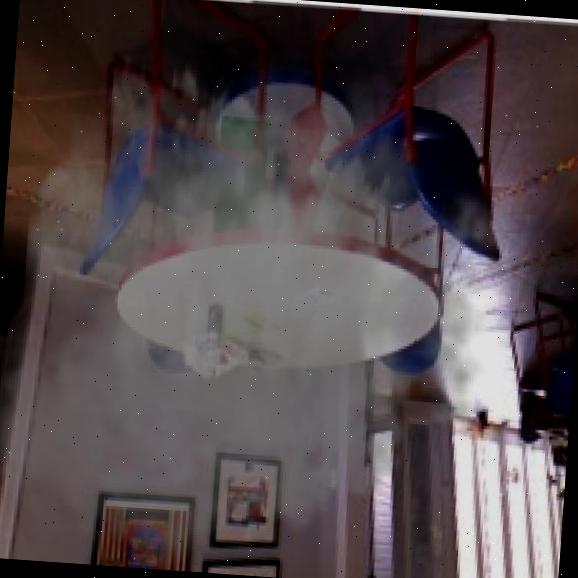smoke: (0, 10, 537, 578)
